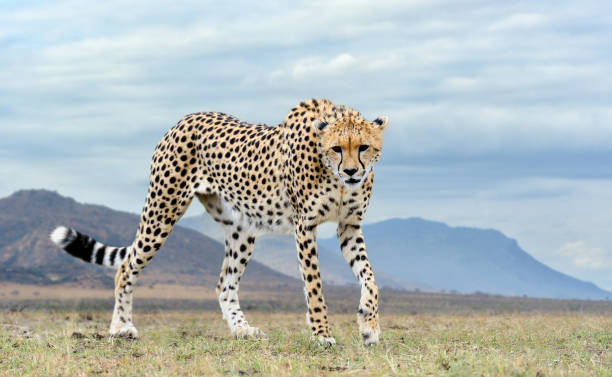cheetah: (303, 112, 388, 190)
